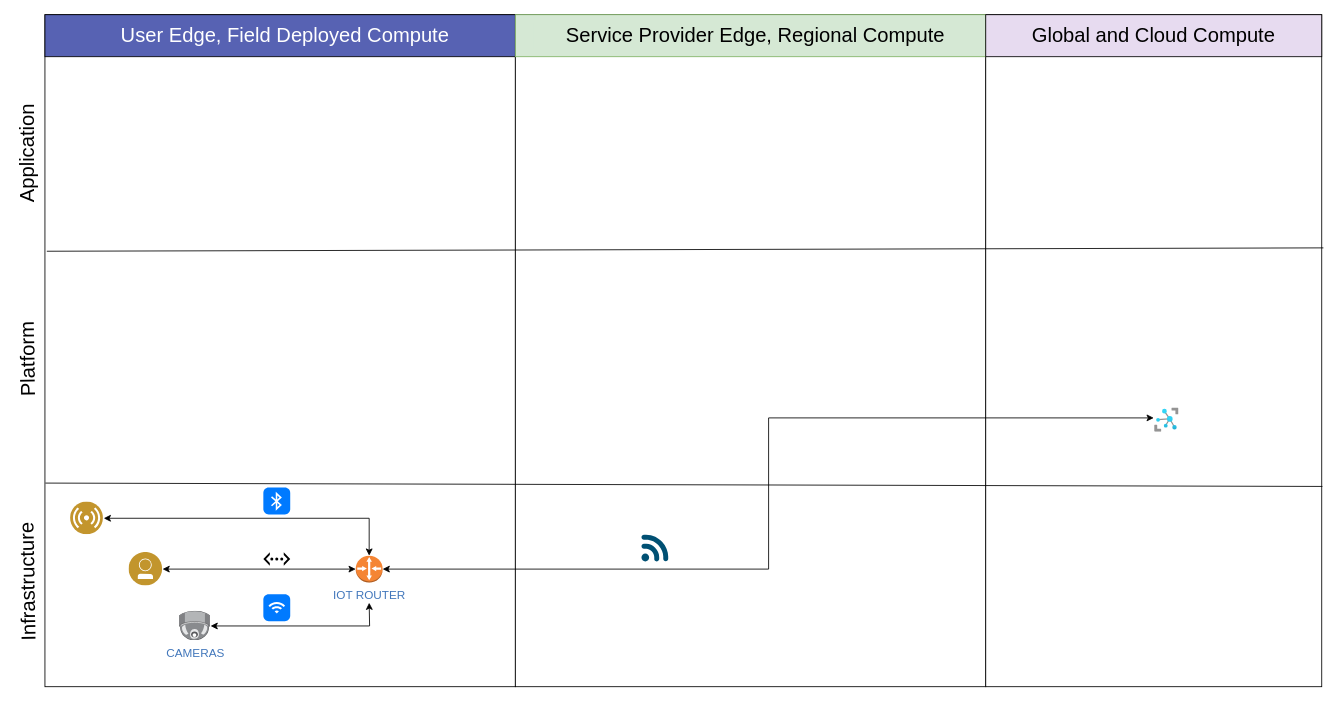
This 1339x701 diagram has some shape labels left out. The box of each missing label's shape, as (x1, y1, x2, y2) in pixels:
IOT HUB: (1154, 407, 1179, 432)
ROBOTS: (129, 552, 162, 585)
SENSORS: (70, 501, 103, 534)
